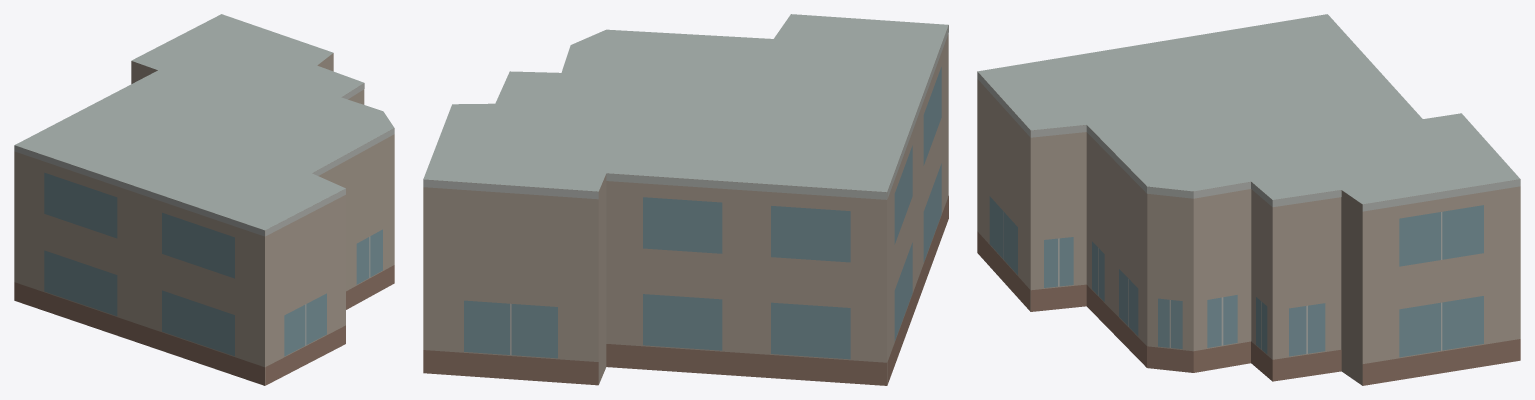
Rendered from survey-upis-32708244.glb.
The picture shows the model from 3 angles, left to right: view 1: azimuth 30°, elevation 25°; view 2: azimuth 150°, elevation 25°; view 3: azimuth 270°, elevation 25°; orthographic projection. The views are drawn at different scales.
Parts seen in each view (by area): view 1: survey-upis-32708244.tmp; view 2: survey-upis-32708244.tmp; view 3: survey-upis-32708244.tmp.
Boxes of the visible parts, box(x1,y1,x2,y2) form: survey-upis-32708244.tmp: box(14, 14, 394, 385); survey-upis-32708244.tmp: box(423, 14, 948, 385); survey-upis-32708244.tmp: box(977, 14, 1520, 385).
Bounding box in the file's own units: 13.73 × 6.1 × 16.56.
